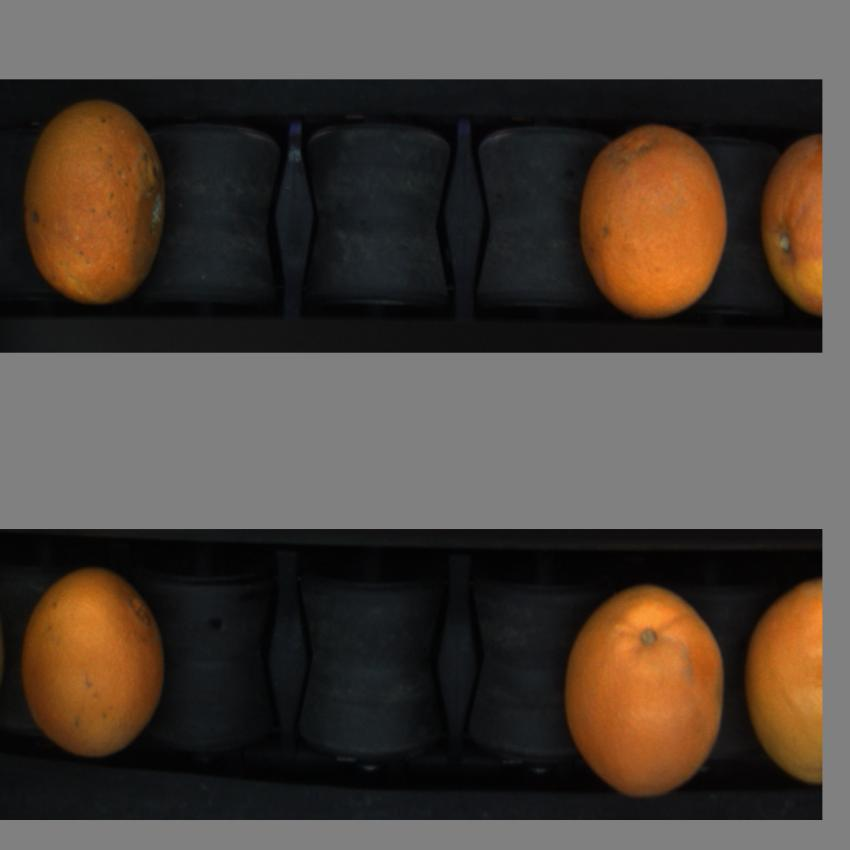Buen estado: (554, 580, 734, 798), (576, 125, 730, 317), (18, 564, 168, 758), (737, 564, 826, 799), (756, 131, 826, 319)
Mal estado: (24, 91, 169, 301)
